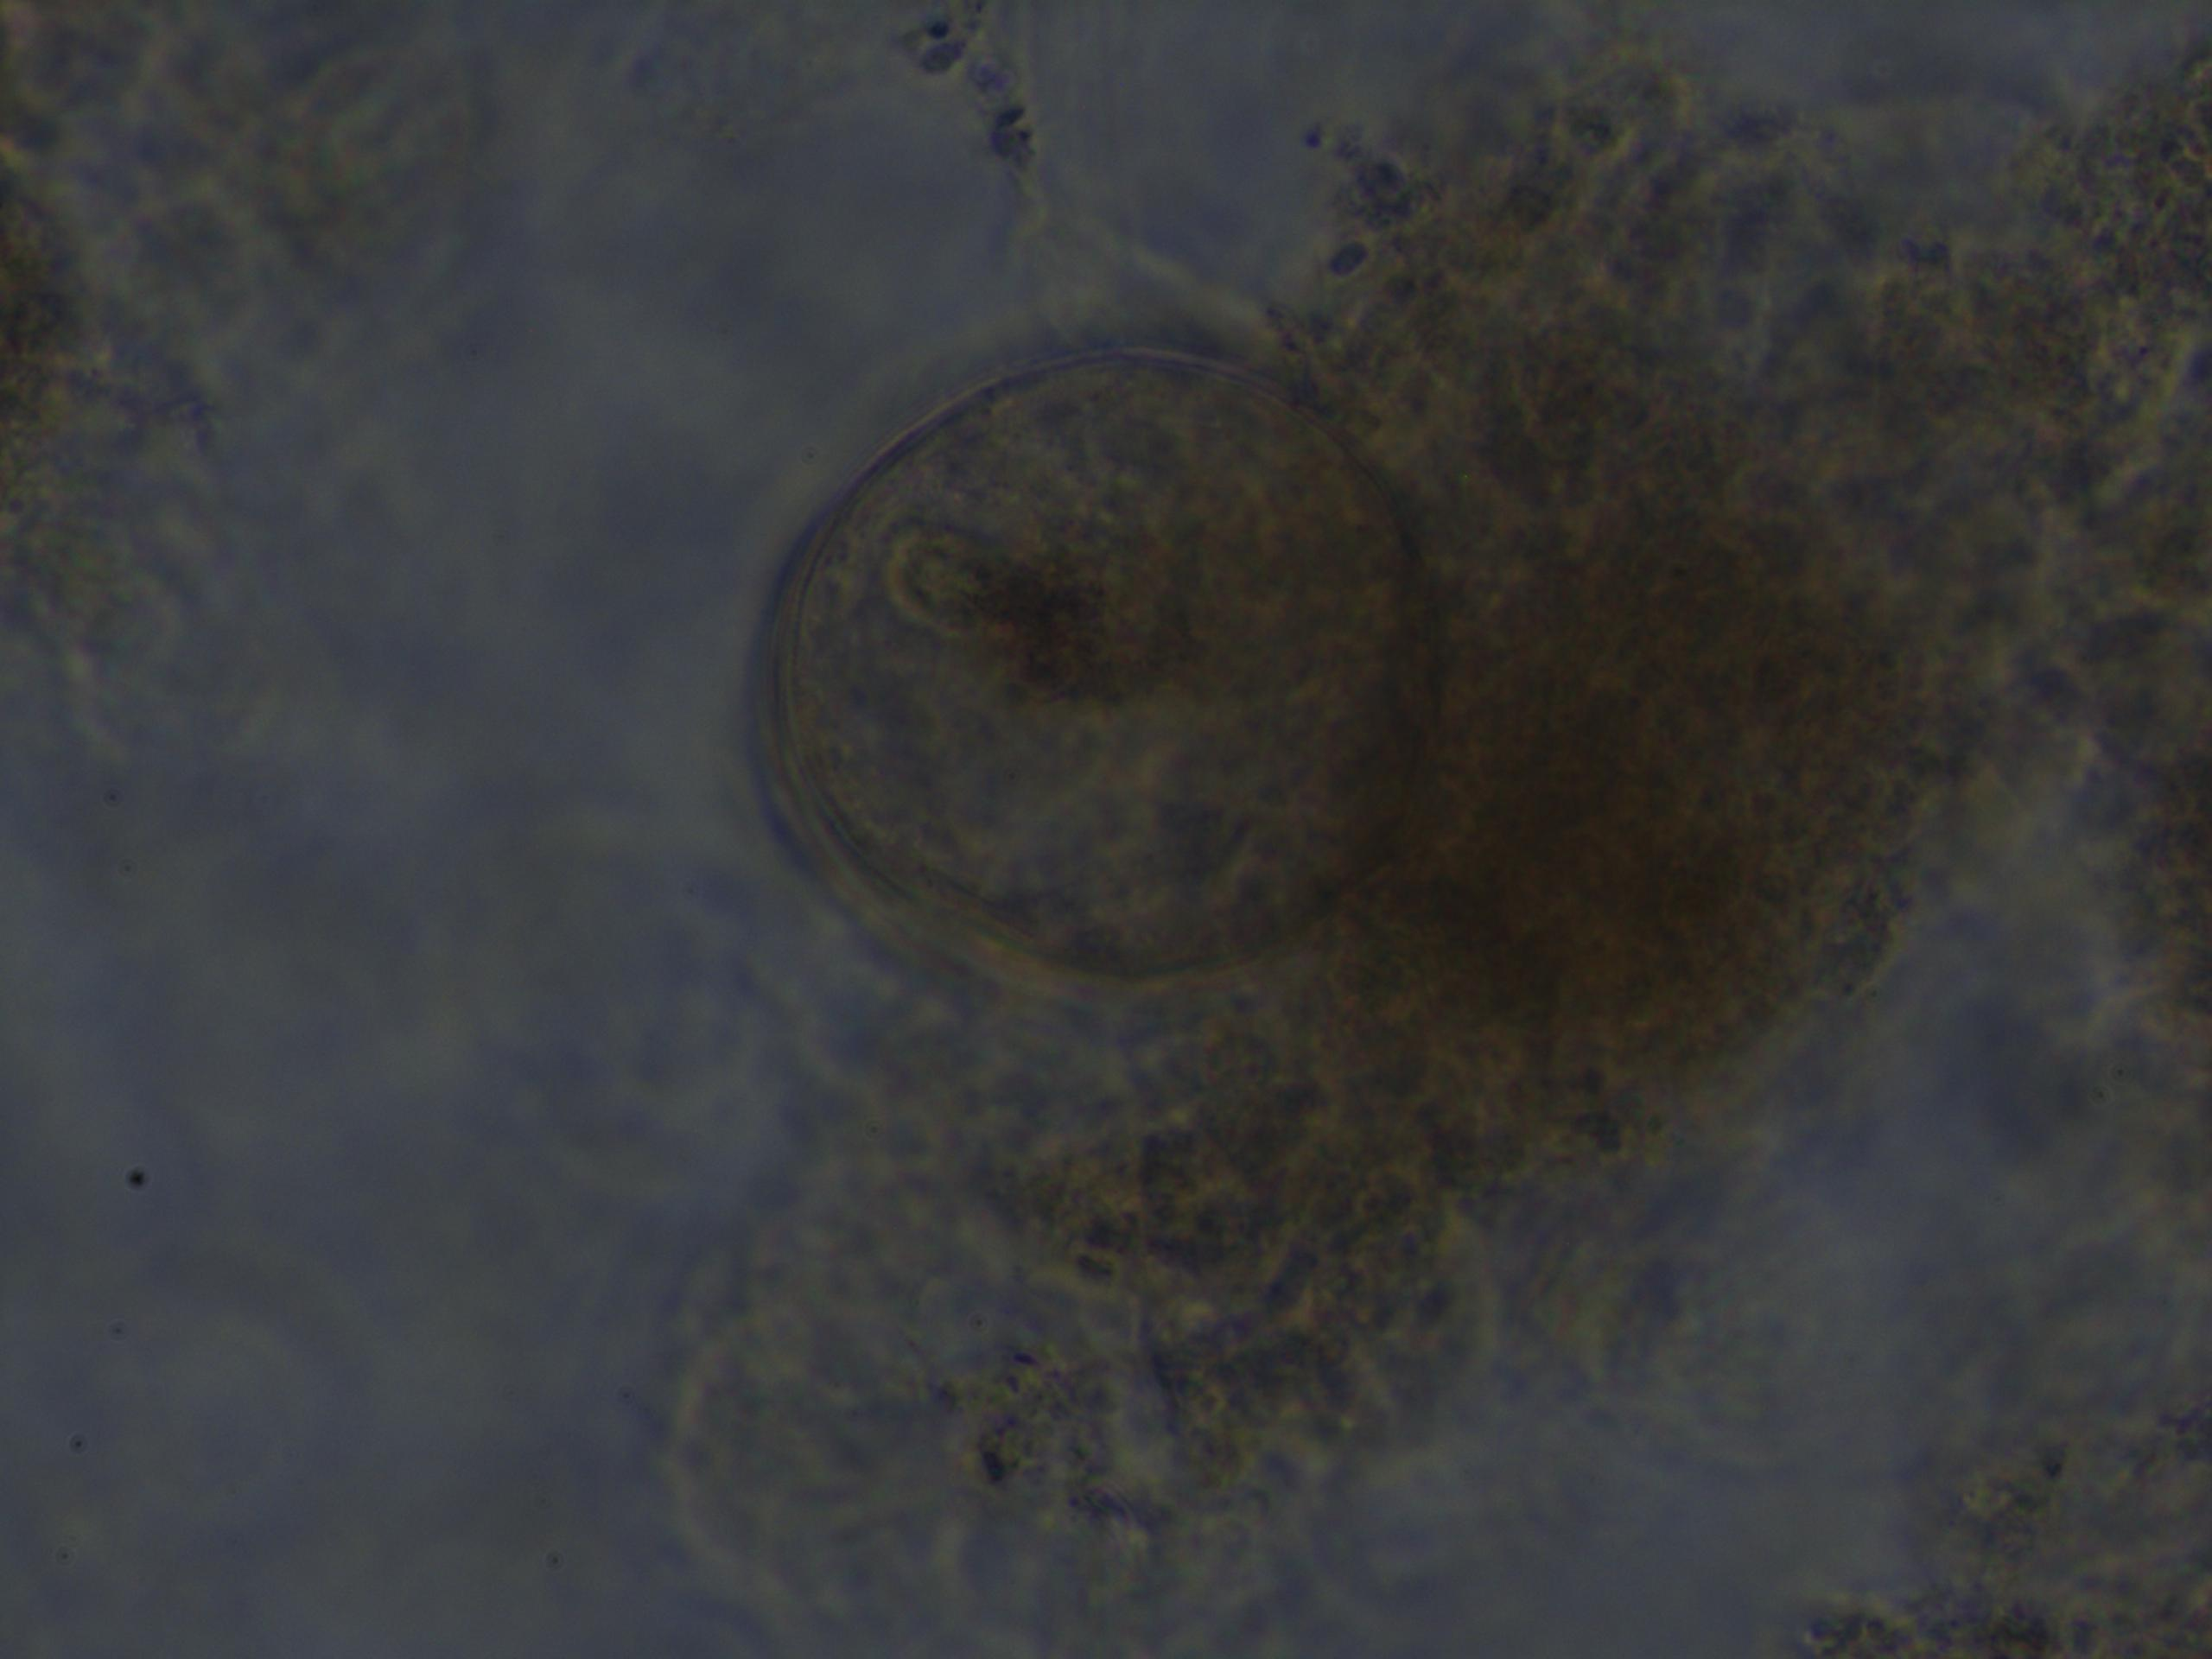protozoa: (725, 315, 1442, 1016)
